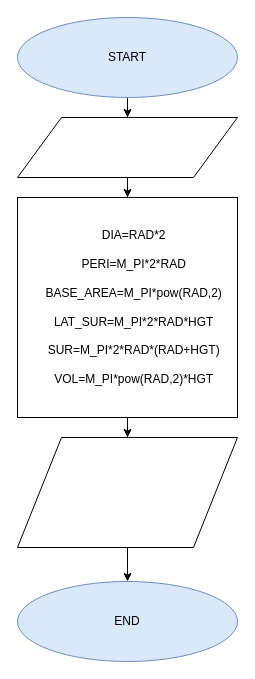
This 255x679 diagram has some shape labels left out. The centre of each missing label's shape, as x and y in pixels:
READ HGT, RAD: (x=127, y=147)
WRITE DIA, PERI, BASE_AREA, LAT_SUR, SUR, VOL: (x=127, y=492)
